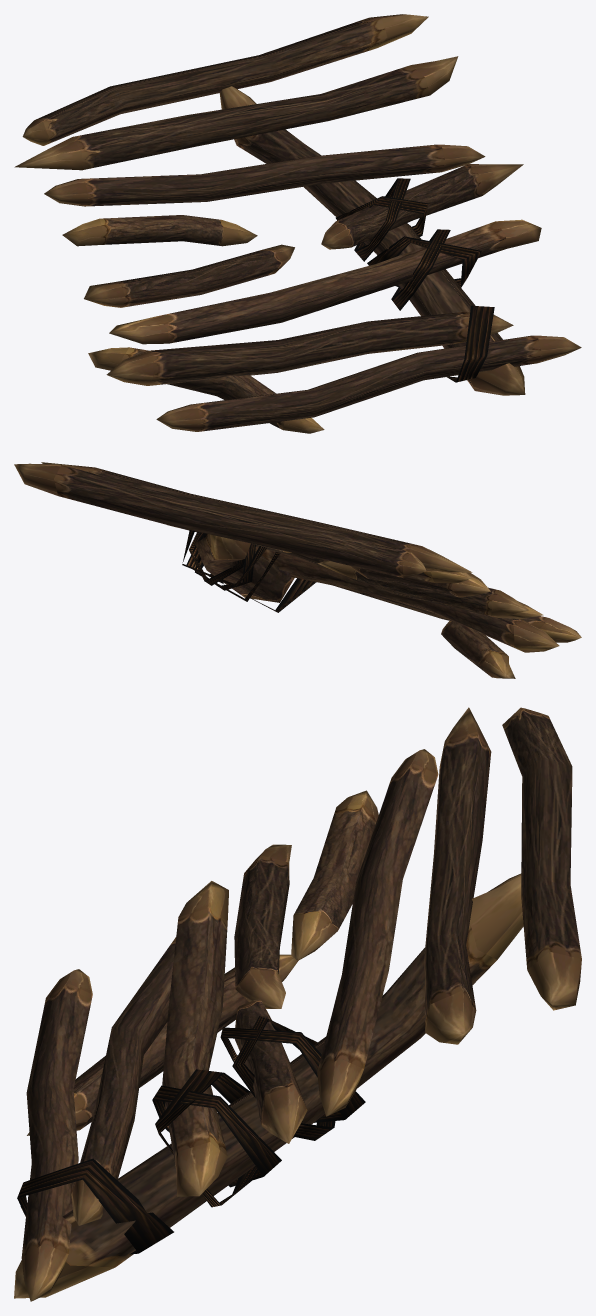
The model's file is lava_wallstair_straight_01.fbx.
3 renders of one model, top to bottom at view 1: azimuth 30°, elevation 25°; view 2: azimuth 150°, elevation 25°; view 3: azimuth 270°, elevation 25°, orthographic. The views are drawn at different scales.
Parts seen in each view (by area): view 1: lava_tileset/wood_pole_mat_shadow; view 2: lava_tileset/wood_pole_mat_shadow; view 3: lava_tileset/wood_pole_mat_shadow.
Boxes of the visible parts, x1,y1,x2,y2 form: lava_tileset/wood_pole_mat_shadow: (14,14,581,433); lava_tileset/wood_pole_mat_shadow: (14,462,581,678); lava_tileset/wood_pole_mat_shadow: (14,707,581,1301).
Bounding box in the file's own units: 5.26 × 2.7 × 3.73.
